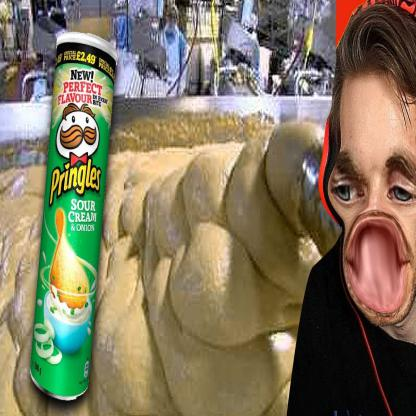potatochip: (27, 28, 120, 404)
